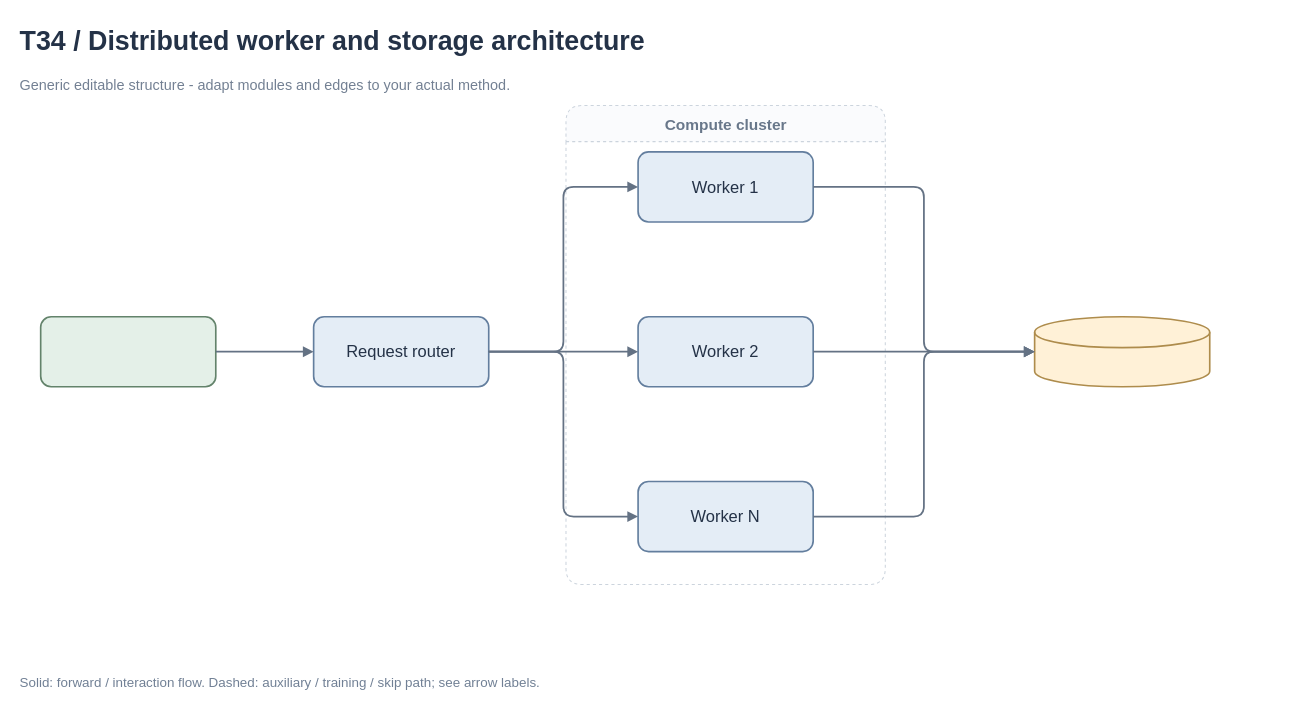
This 1302x716 diagram has some shape labels left out. Each missing label, with the centre of its shape:
Clients: [127,351]
Shared storage: [1121,351]
